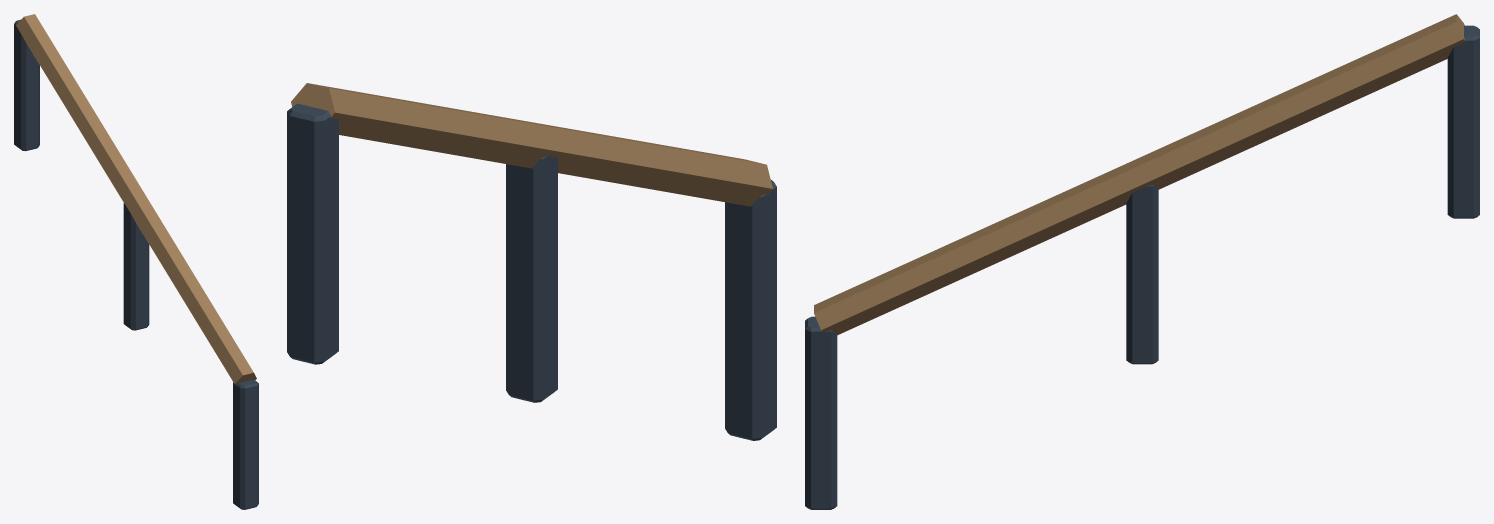
Rendered from stair-rail.glb.
3 views of the same model, side by side, from view 1: azimuth 30°, elevation 25°; view 2: azimuth 150°, elevation 25°; view 3: azimuth 270°, elevation 25° (orthographic). The views are drawn at different scales.
Parts seen in each view (by area): view 1: stair-rail__body; view 2: stair-rail__body; view 3: stair-rail__body.
Boxes of the visible parts, x1=… form: stair-rail__body: x1=14, y1=14, x2=258, y2=509; stair-rail__body: x1=287, y1=83, x2=776, y2=440; stair-rail__body: x1=805, y1=14, x2=1479, y2=509.
Bounding box in the file's own units: 0.14 × 2 × 2.52.
